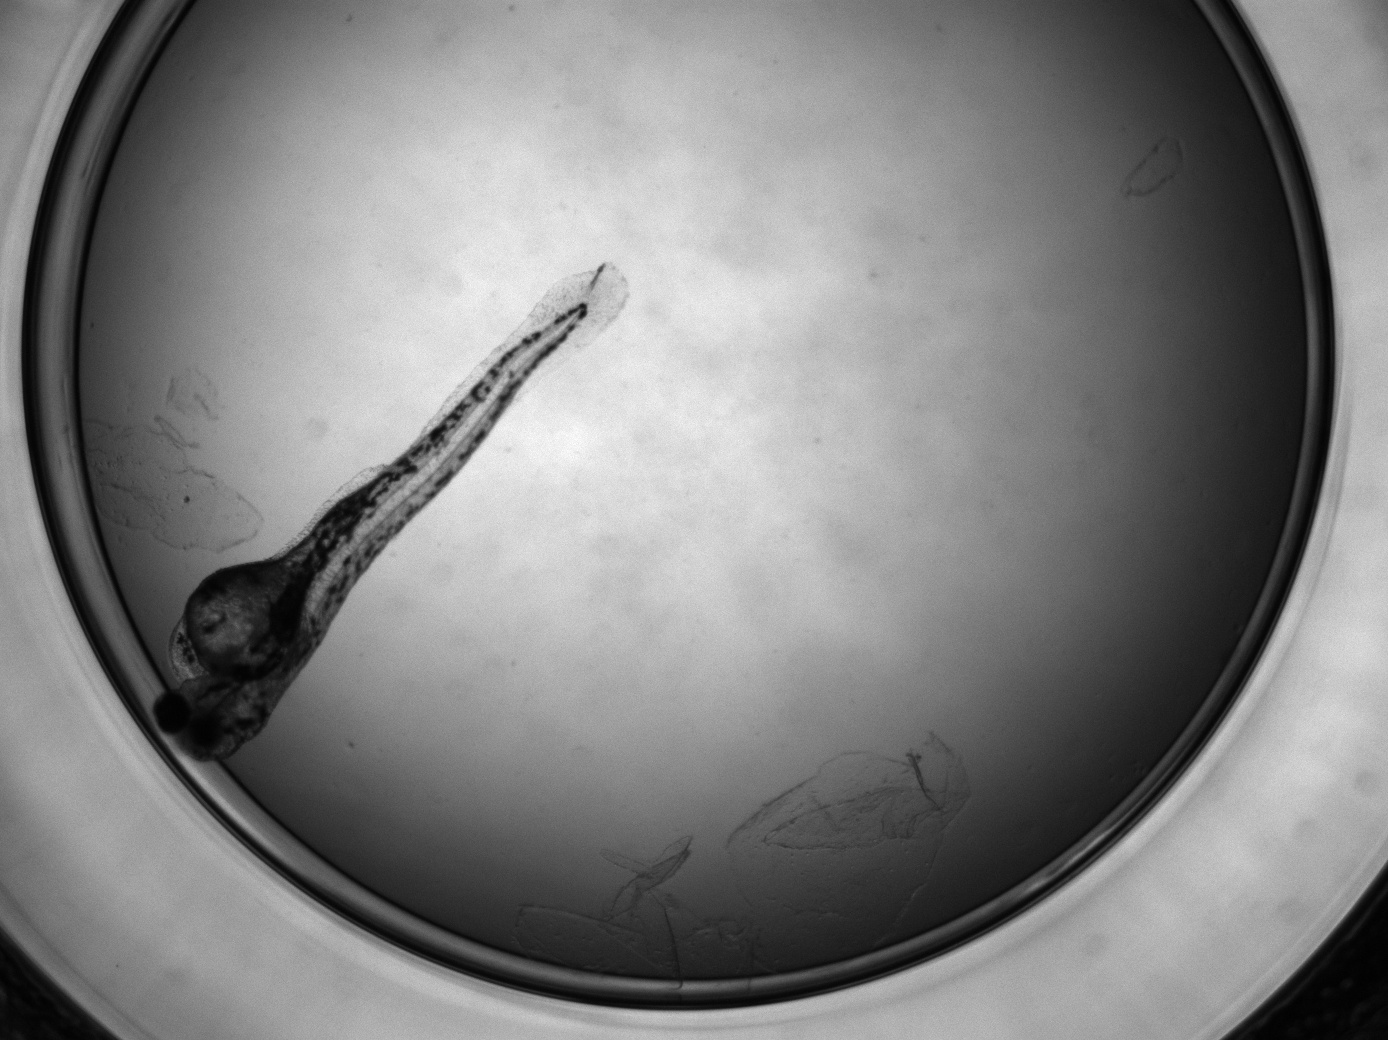debris: (726, 733, 969, 915), (59, 366, 263, 553), (512, 836, 698, 983)
embryo: (152, 298, 590, 763)
eye: (153, 692, 190, 734), (189, 714, 222, 751)
yolksac: (167, 559, 296, 684)
